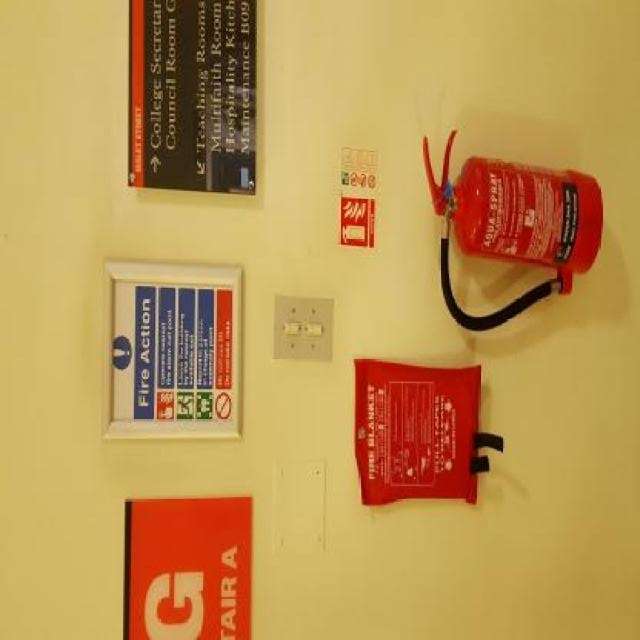fire extinguisher: (420, 124, 611, 330)
